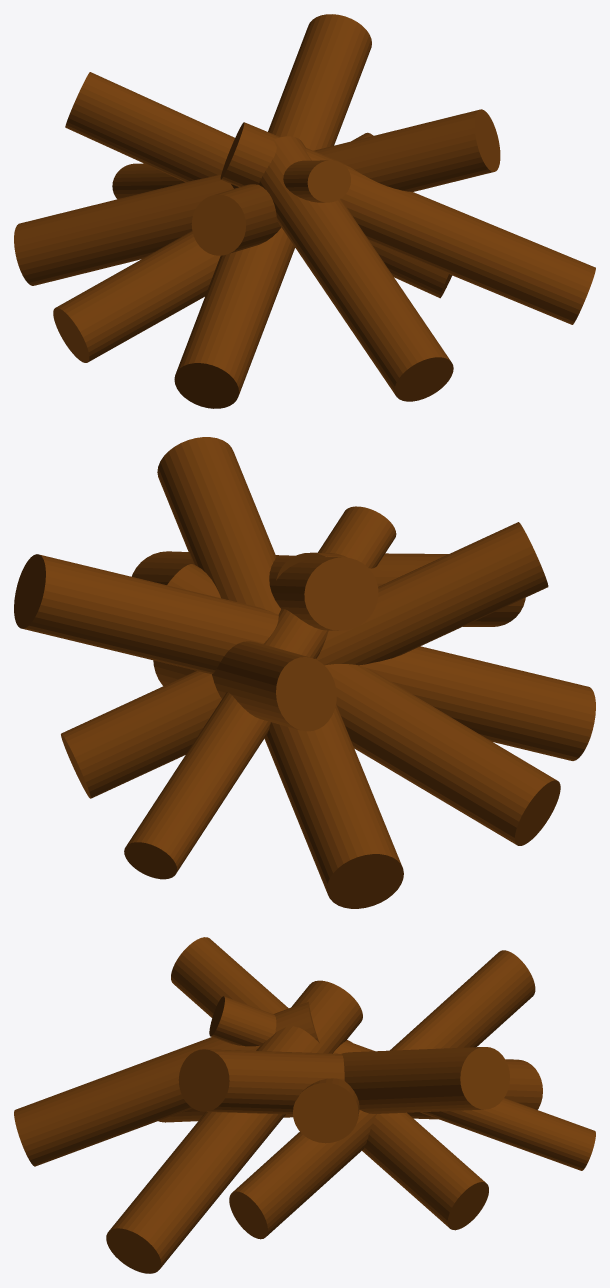
File: campfire logs MY ASSET.fbx
The picture shows the model from 3 angles, top to bottom: view 1: azimuth 30°, elevation 25°; view 2: azimuth 150°, elevation 25°; view 3: azimuth 270°, elevation 25°; orthographic projection. The views are drawn at different scales.
Visible parts, largest first — view 1: Cylinder.006, Cylinder.004, Cylinder.002, Cylinder, Cylinder.005, Cylinder.001, Cylinder.007, Cylinder.003; view 2: Cylinder.004, Cylinder.006, Cylinder.007, Cylinder.001, Cylinder.003, Cylinder.005, Cylinder.002, Cylinder; view 3: Cylinder.002, Cylinder.005, Cylinder.007, Cylinder, Cylinder.004, Cylinder.006, Cylinder.003, Cylinder.001.
Part boxes in pixels (x1,y1,x2,y2): Cylinder.006: [14, 109, 500, 285]; Cylinder.004: [174, 14, 371, 408]; Cylinder.002: [220, 122, 595, 324]; Cylinder: [258, 136, 453, 401]; Cylinder.005: [65, 72, 452, 298]; Cylinder.001: [53, 132, 373, 362]; Cylinder.007: [191, 184, 281, 255]; Cylinder.003: [112, 160, 350, 202]; Cylinder.004: [14, 554, 595, 760]; Cylinder.006: [157, 437, 403, 908]; Cylinder.007: [61, 522, 548, 798]; Cylinder.001: [167, 564, 560, 845]; Cylinder.003: [124, 506, 396, 879]; Cylinder.005: [153, 641, 336, 731]; Cylinder.002: [132, 551, 378, 630]; Cylinder: [276, 552, 525, 626]; Cylinder.002: [106, 980, 362, 1273]; Cylinder.005: [229, 950, 535, 1239]; Cylinder.007: [171, 937, 488, 1230]; Cylinder: [14, 1002, 319, 1166]; Cylinder.004: [158, 1047, 509, 1122]; Cylinder.006: [178, 1049, 542, 1119]; Cylinder.003: [209, 996, 595, 1170]; Cylinder.001: [293, 1040, 359, 1143].
Bounding box in the file's own units: 341 × 157 × 400.
